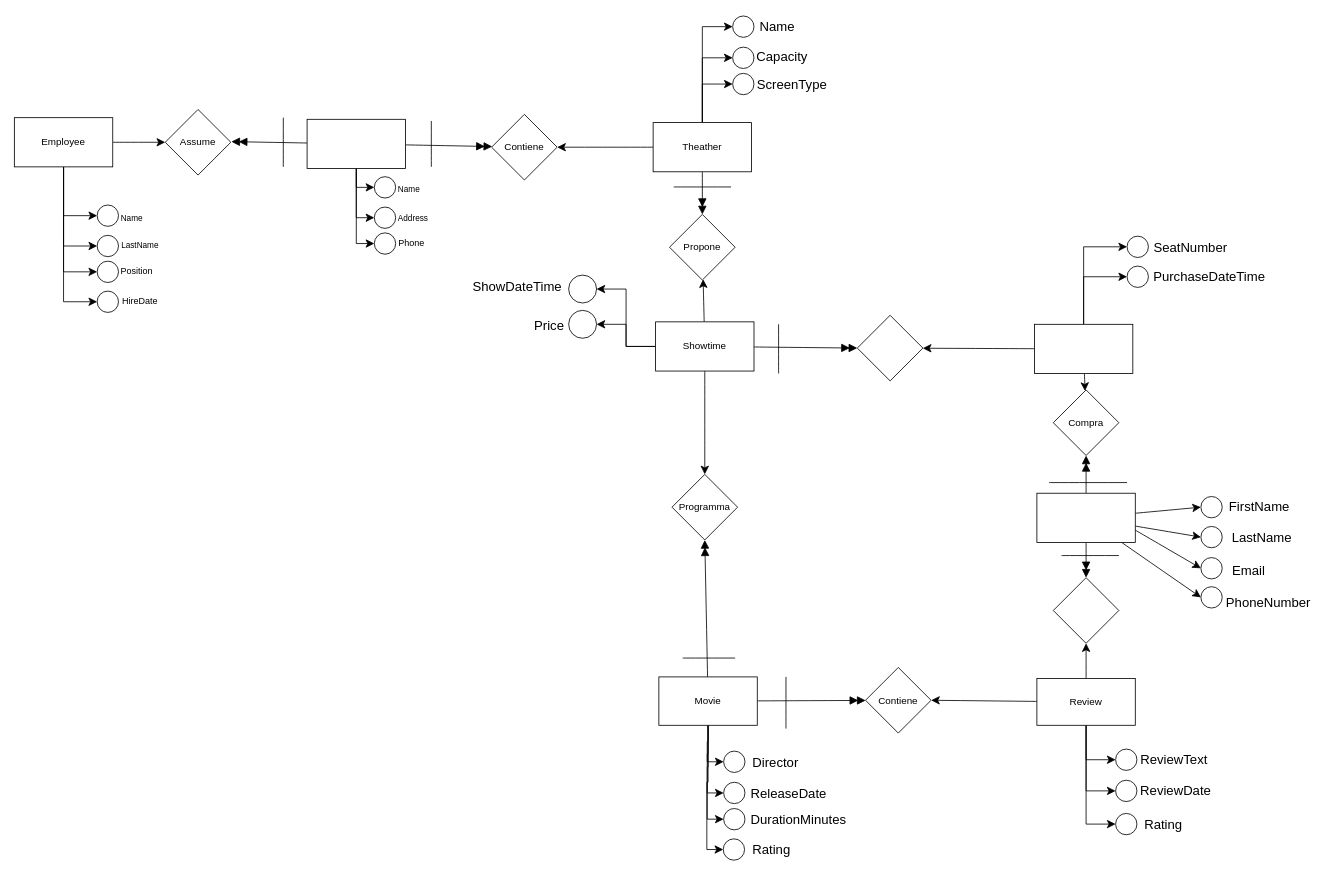
This 1332x877 diagram has some shape labels left out. Here are the shapes that lost their labels. From the top down, the centre of each, then its label:
point (355, 143): Cinema
point (889, 347): Vende
point (1083, 348): Ticket
point (1085, 517): Costumer
point (1085, 610): Effettua
